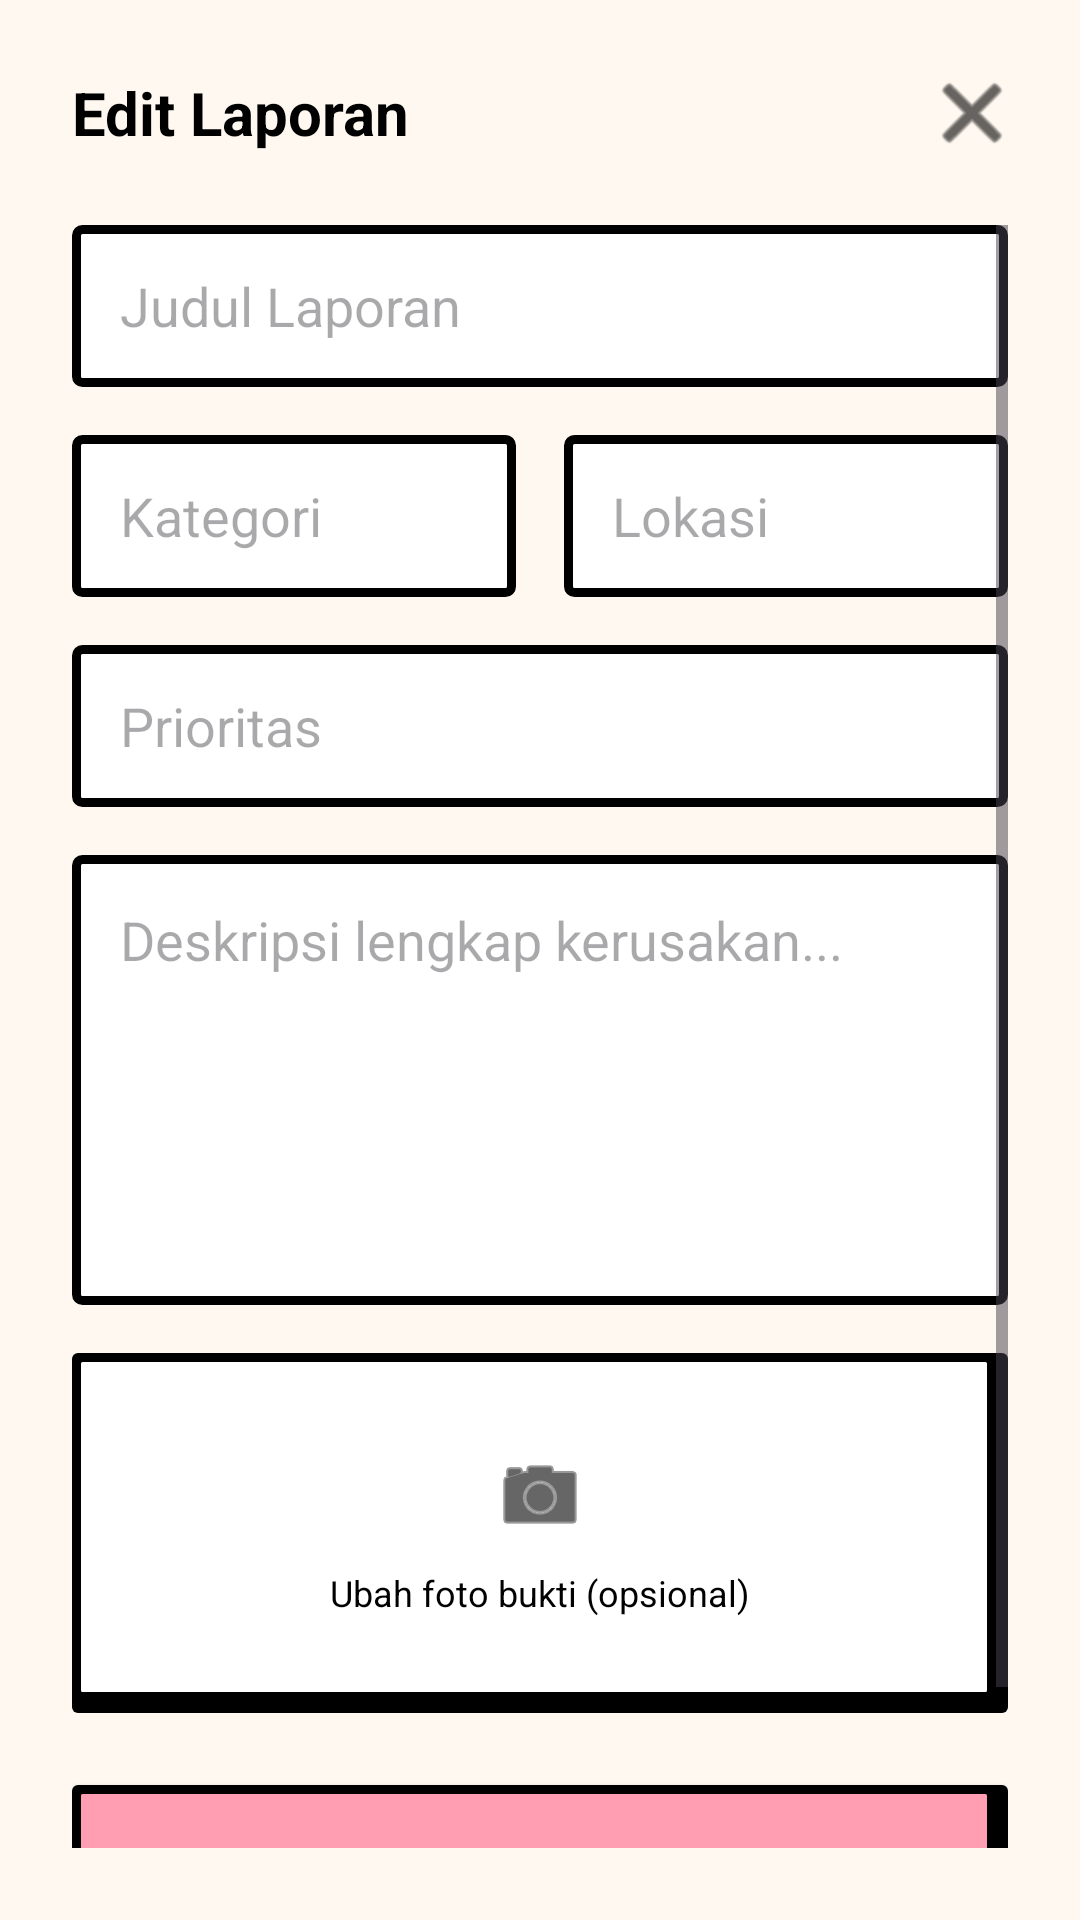

Icons on this 1080px x 1920px Android screen, each with the point to tap as (x=x, y=y):
Close: (x=972, y=113)
Pick Image: (x=540, y=1494)
